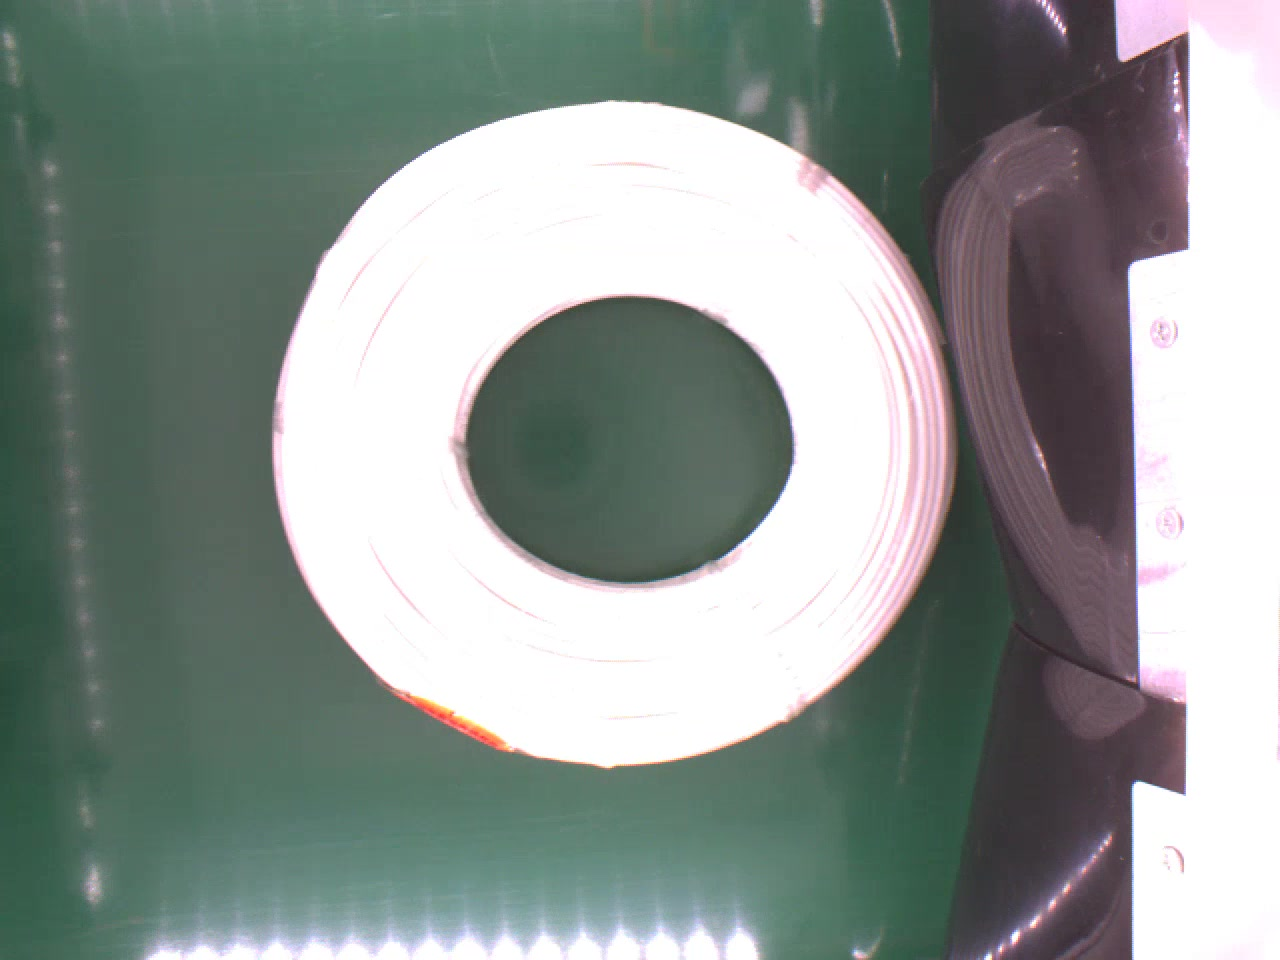white: (269, 91, 959, 771)
